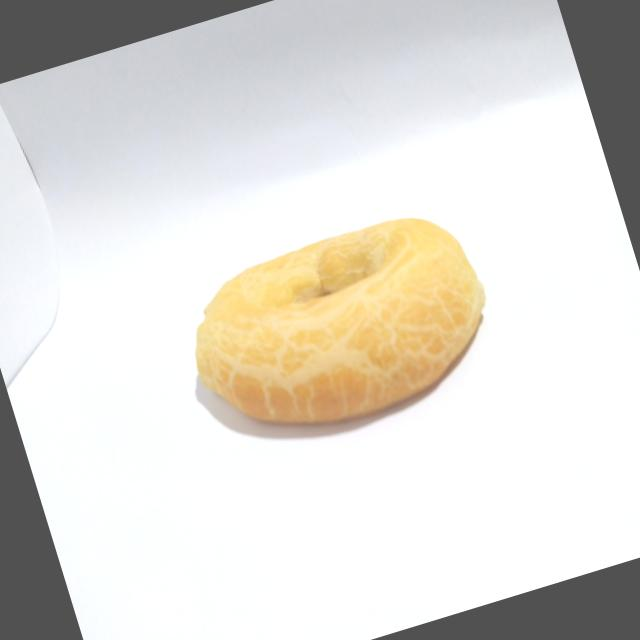Chipa: (161, 180, 516, 470)
